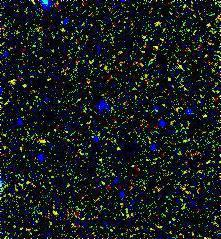star: (0, 65, 27, 95)
